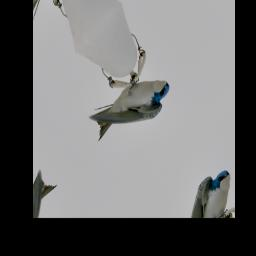Swallow: (82, 51, 176, 164)
